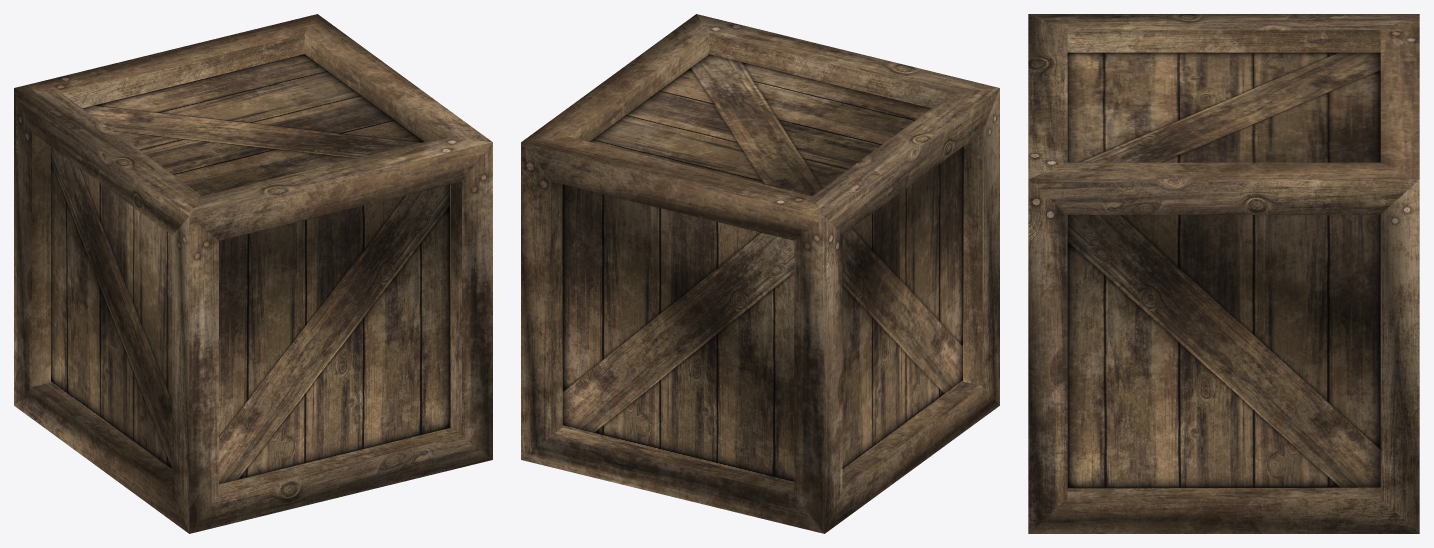
File: Wooden_crate.fbx
3 views of the same model, side by side, from view 1: azimuth 30°, elevation 25°; view 2: azimuth 150°, elevation 25°; view 3: azimuth 270°, elevation 25° (orthographic). The views are drawn at different scales.
Parts seen in each view (by area): view 1: Cube; view 2: Cube; view 3: Cube.
Part boxes in pixels (box(x1,y1,x2,y2)): Cube: box(14, 14, 492, 533); Cube: box(521, 14, 999, 533); Cube: box(1028, 14, 1419, 533).
Size of the model in its own units: 318 by 318 by 318.
